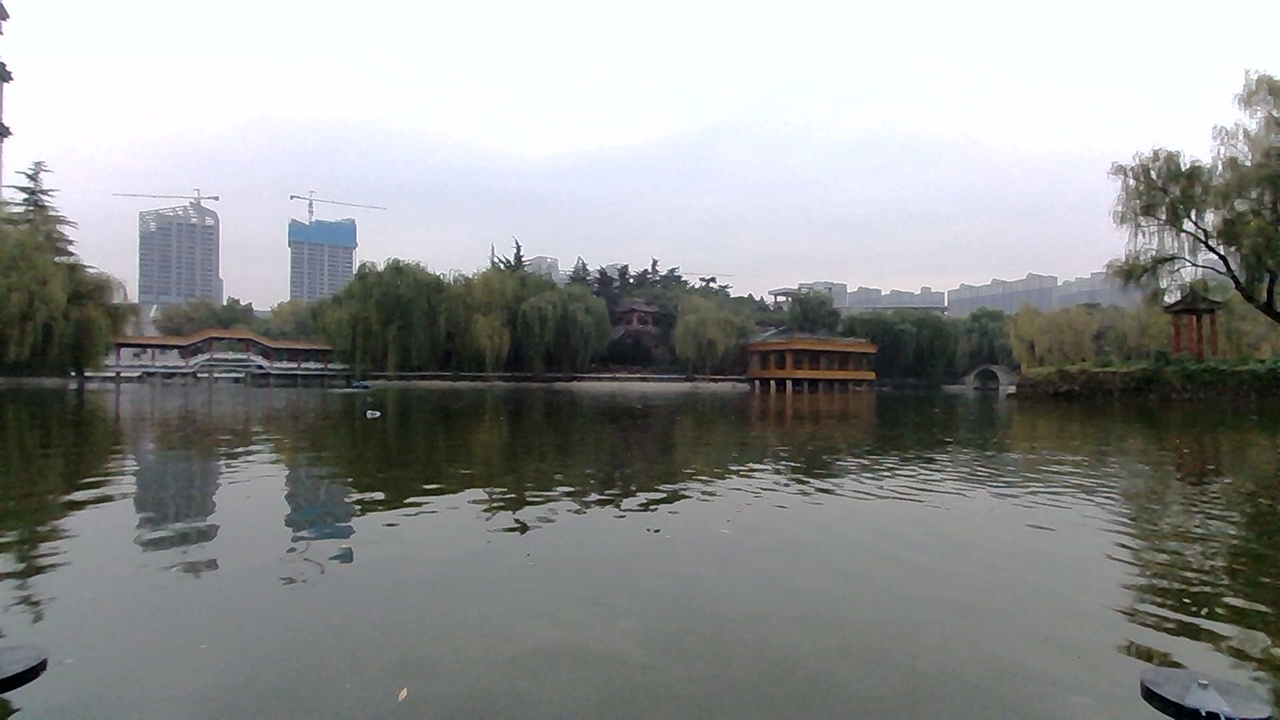bottle: (356, 399, 401, 423)
